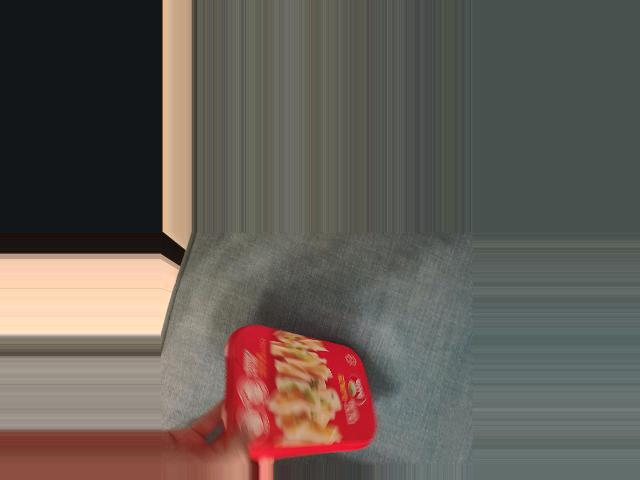cheese: (216, 331, 373, 457)
